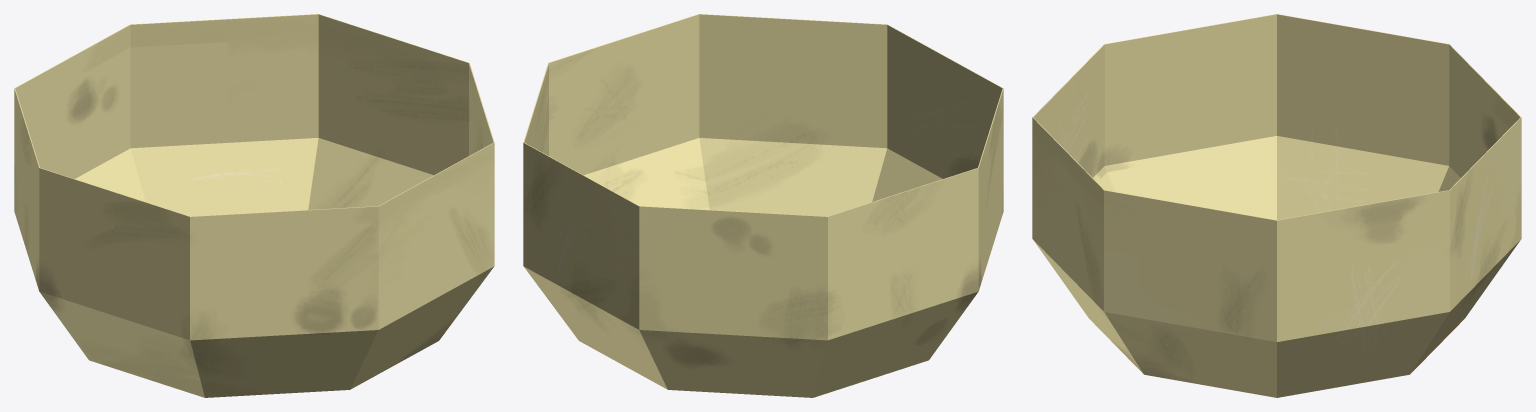
File: bowl_.fbx
3 renders of one model, left to right at view 1: azimuth 30°, elevation 25°; view 2: azimuth 150°, elevation 25°; view 3: azimuth 270°, elevation 25°, orthographic.
Visible parts, largest first — view 1: Bowl_Term; view 2: Bowl_Term; view 3: Bowl_Term.
Part boxes in pixels (x1,y1,x2,y2): Bowl_Term: (14, 14, 494, 397); Bowl_Term: (523, 14, 1003, 397); Bowl_Term: (1032, 14, 1521, 397).
Bounding box in the file's own units: 13.05 × 5.93 × 13.05.
1 material, 1 textured.
